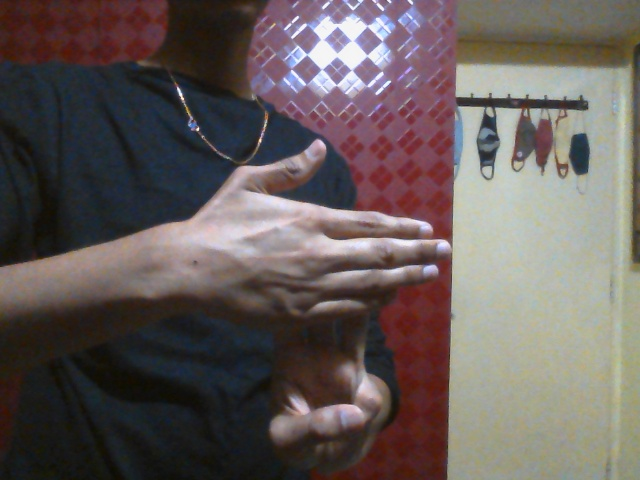M: (202, 139, 453, 451)
